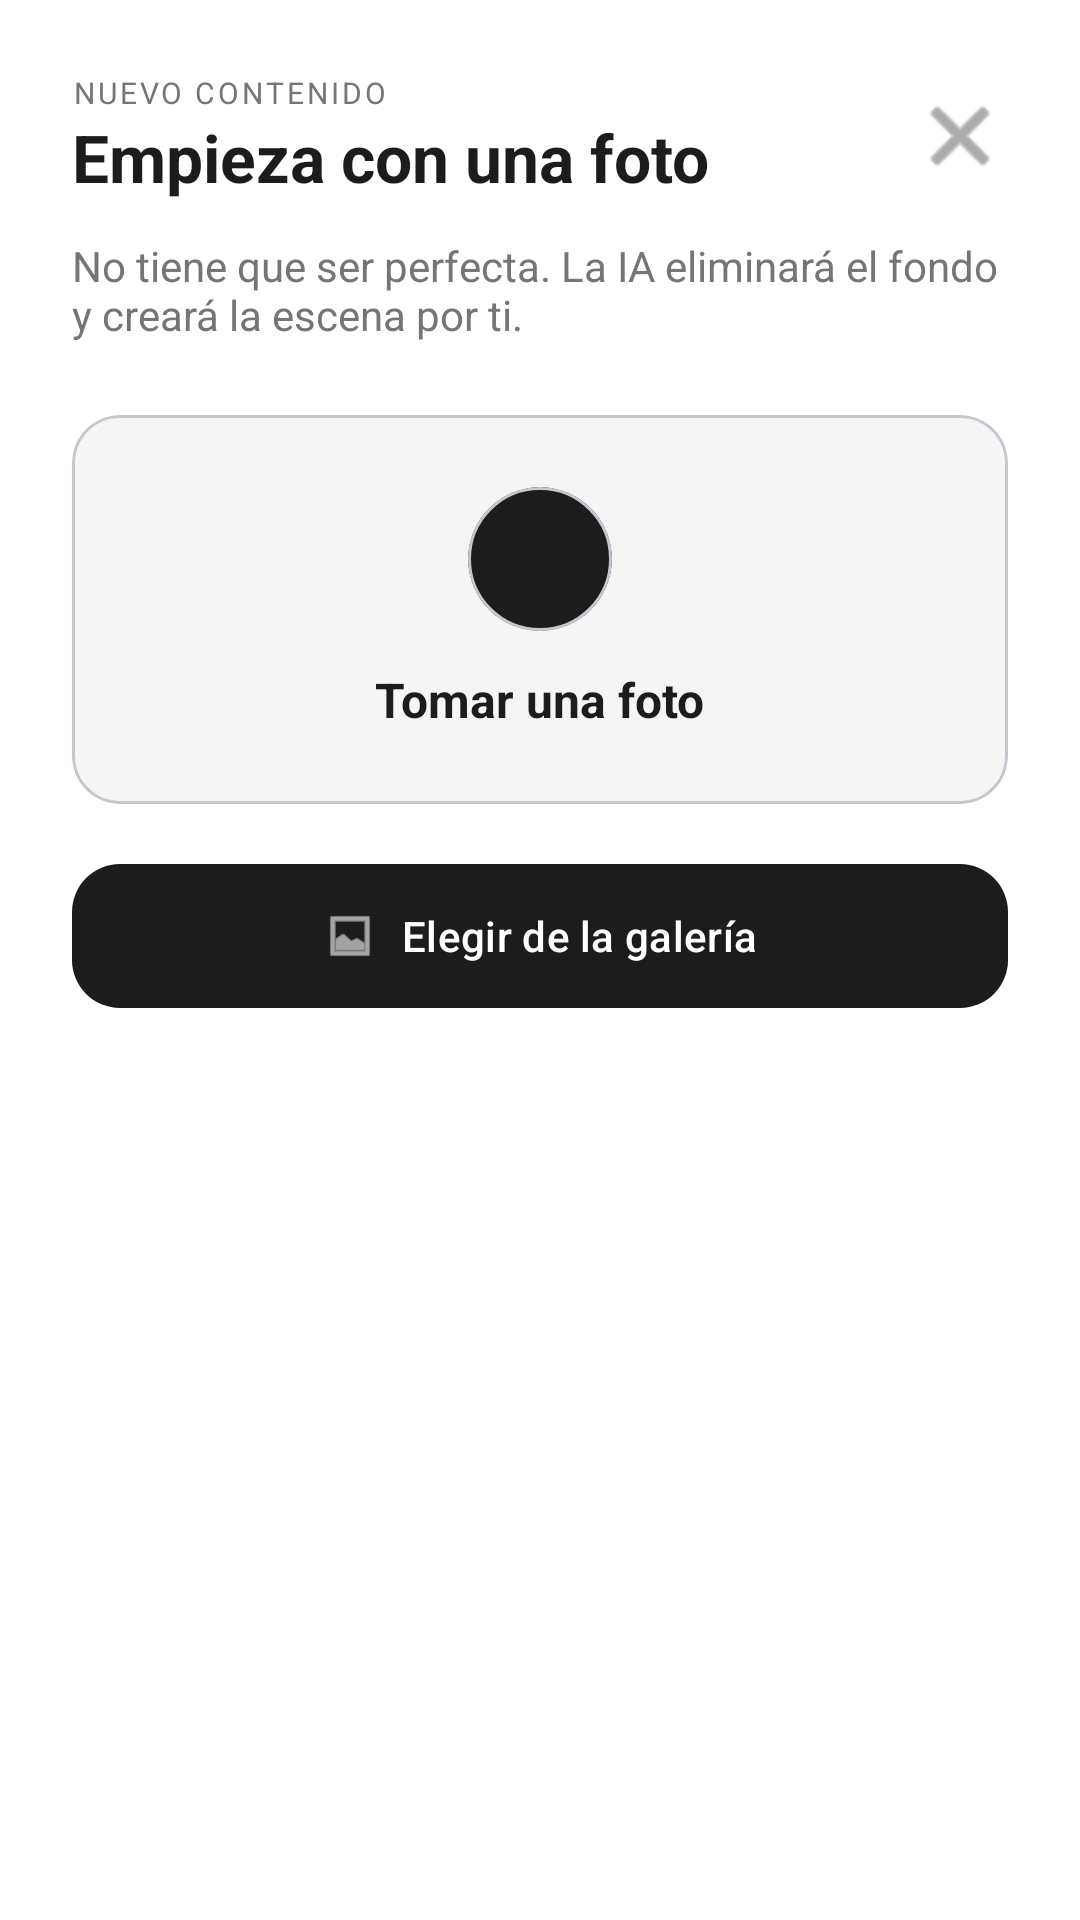

Named icons in this screenshot (1080w x 1920h) and their bounding boxes, (x1, y1, x2, y2):
close clear cancel: (930, 106, 990, 166)
